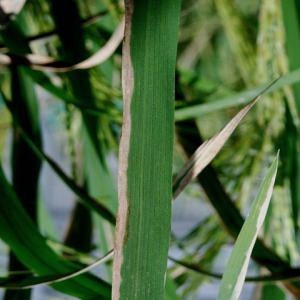Leaf_Blast: (109, 2, 178, 298)
